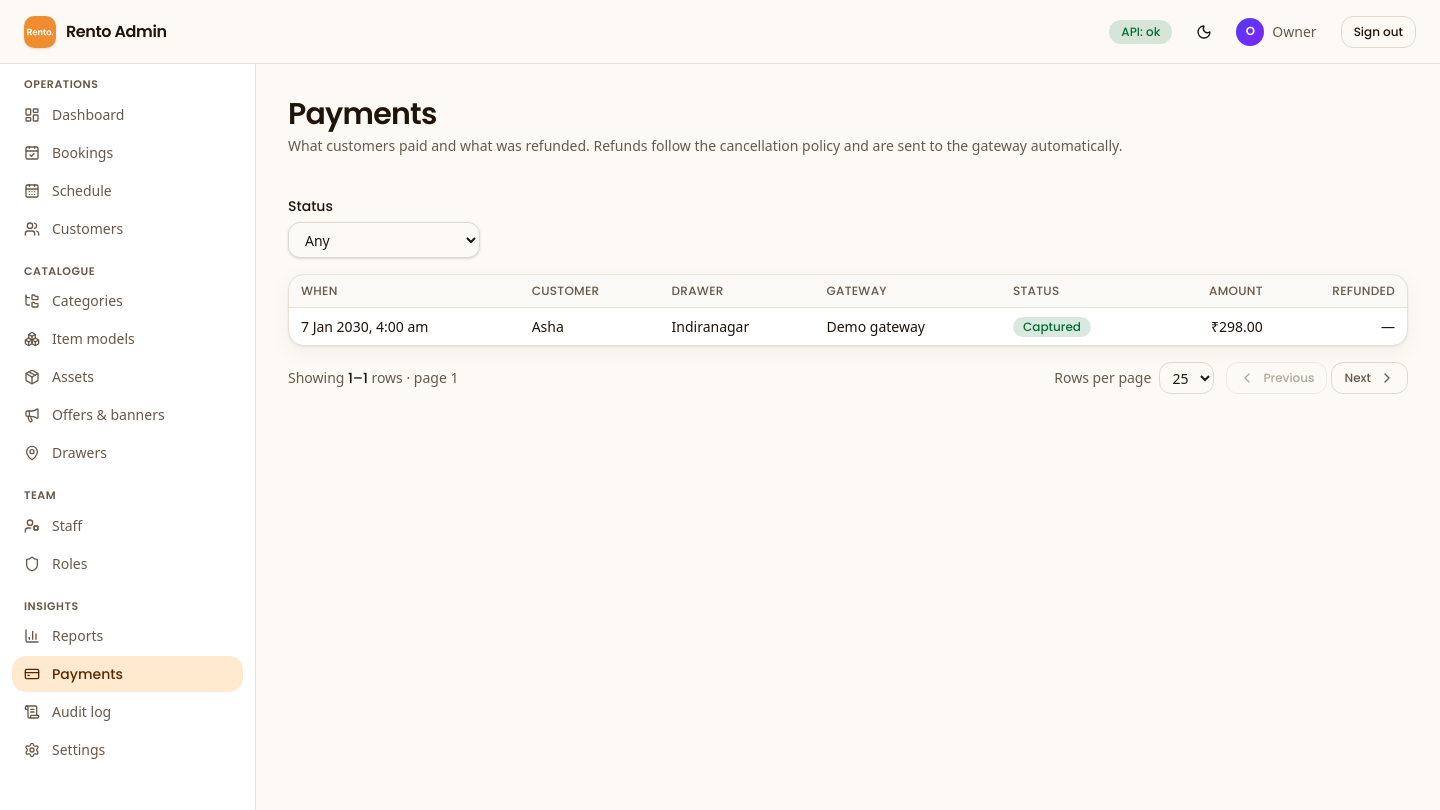
it: payments › R-07 the status filter goes to the server and "Next page" uses the cursor
expect the table named "Payments" is shown: met, box x1=289 y1=275 x2=1407 y2=345
Select "Refunded" in the dropdown labelled "Status": (384, 240) x1=288 y1=222 x2=480 y2=258
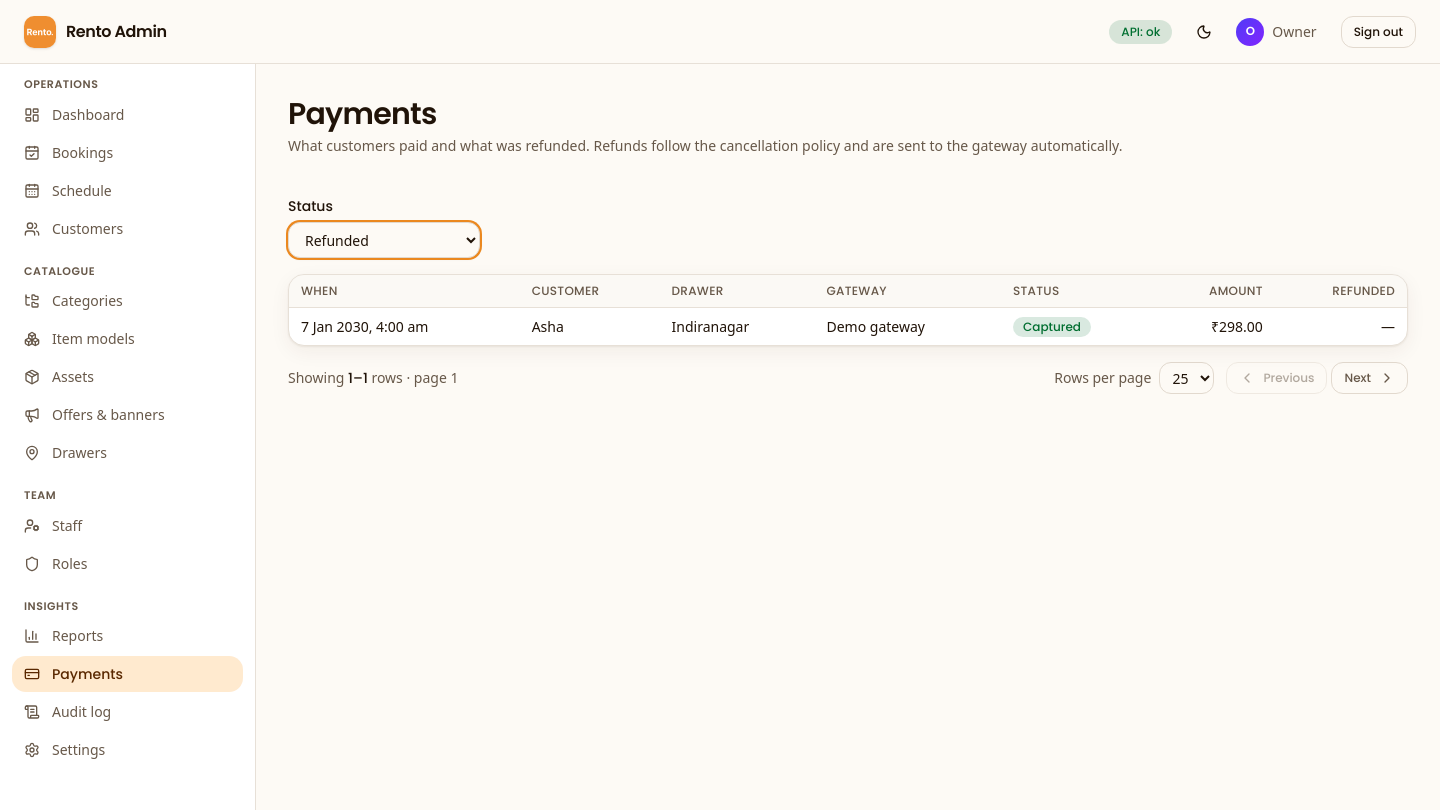
expect the table named "Payments" is shown: met, box x1=289 y1=275 x2=1407 y2=345
Click the button with aria-label "Next page": click(1370, 378) x1=1332 y1=362 x2=1408 y2=394
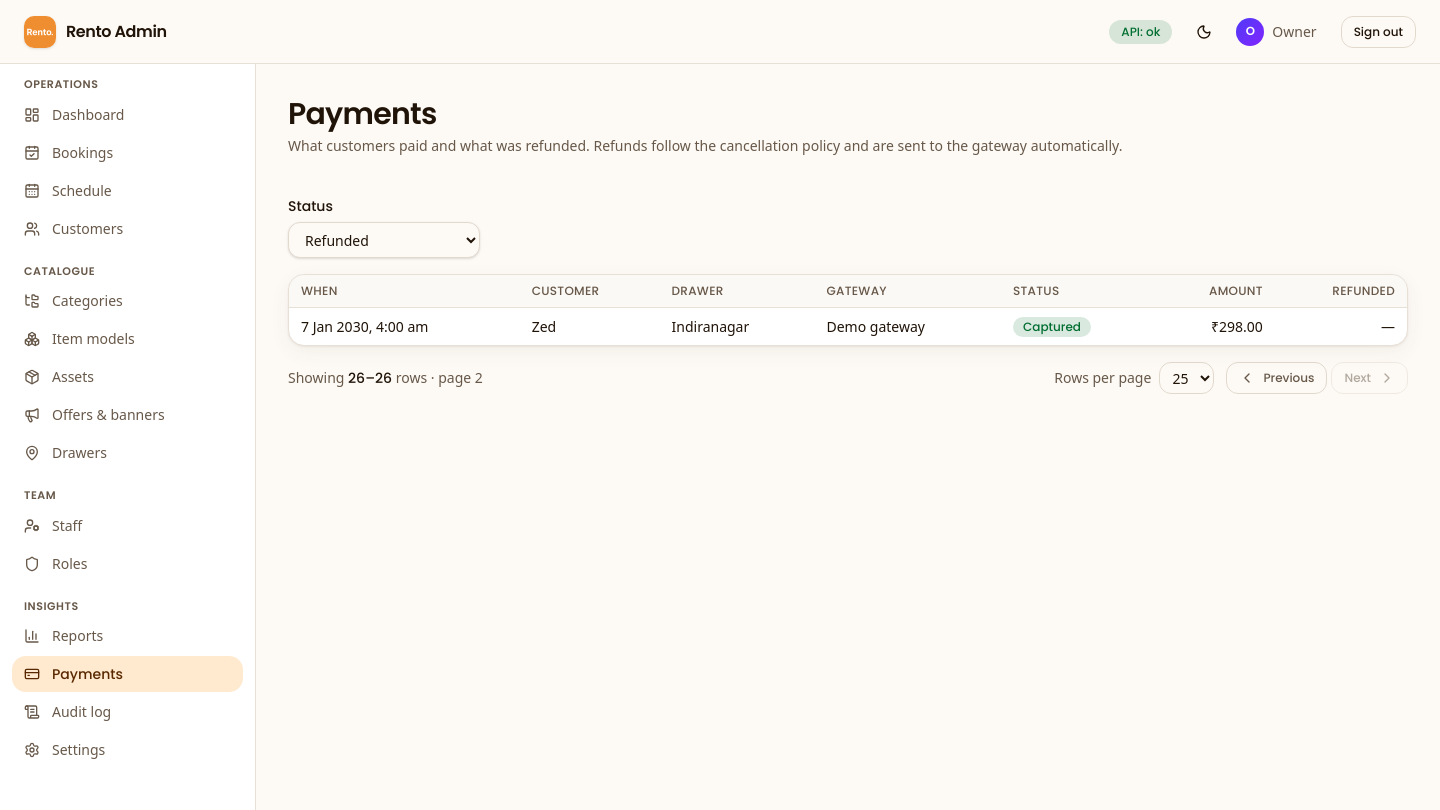
expect the text "Zed" is shown: met, box x1=520 y1=308 x2=660 y2=345
